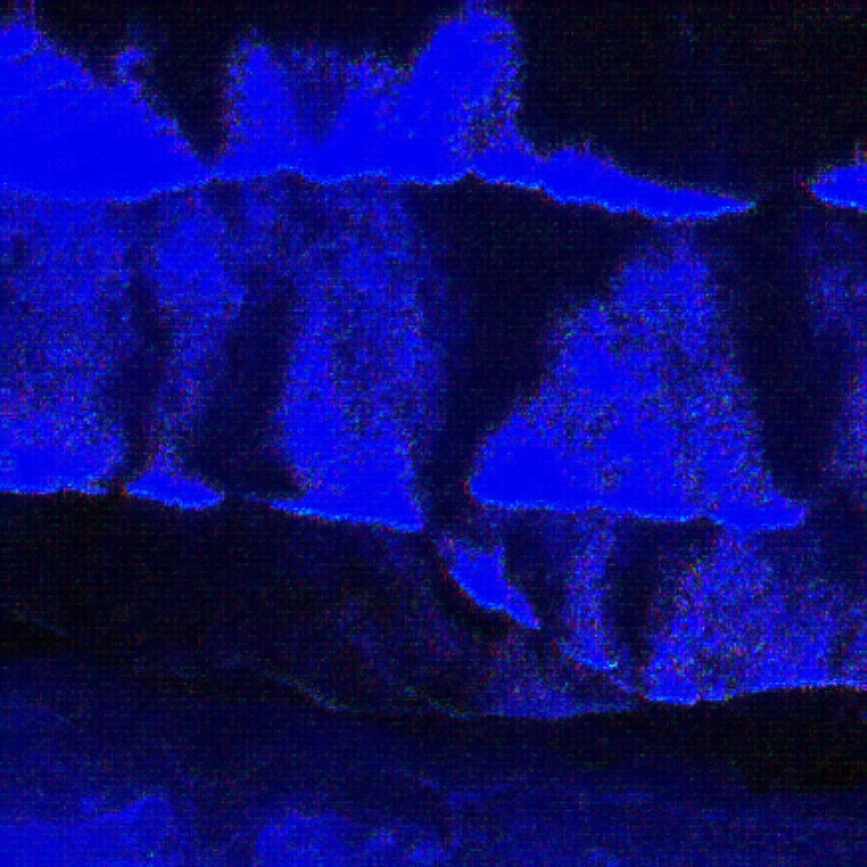rip_current: (377, 84, 612, 546)
